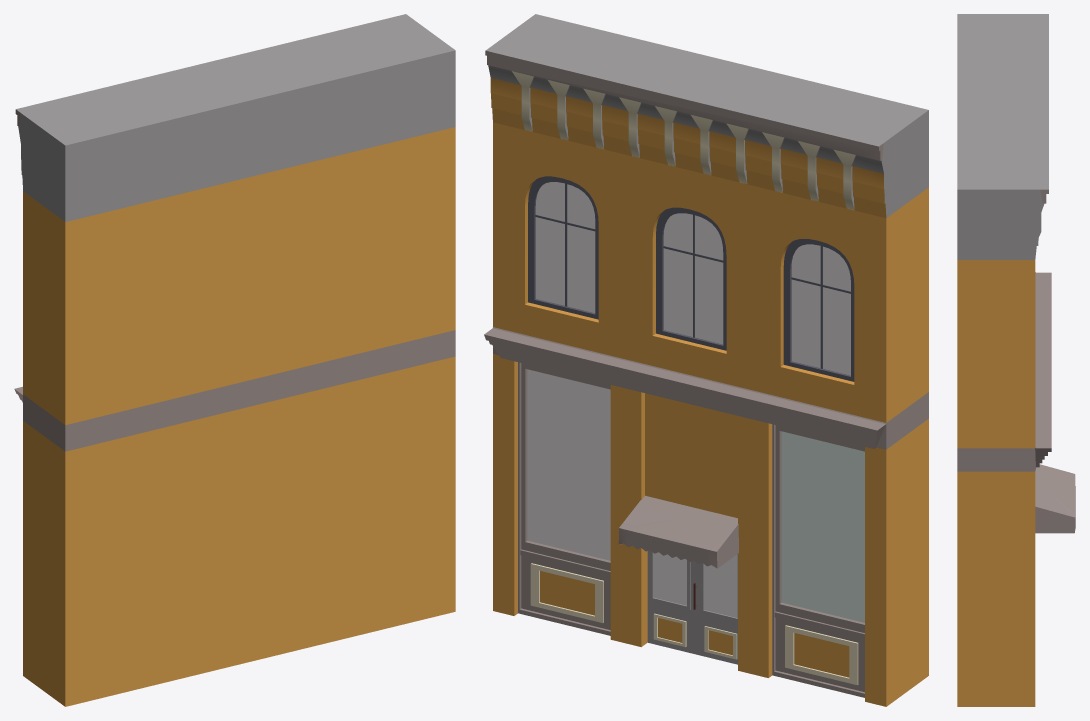
Rendered from KA_Facade_08.fbx.
3 views of the same model, side by side, from view 1: azimuth 30°, elevation 25°; view 2: azimuth 150°, elevation 25°; view 3: azimuth 270°, elevation 25° (orthographic). The views are drawn at different scales.
Visible parts, largest first — view 1: Facade 06; view 2: Facade 06; view 3: Facade 06.
Part boxes in pixels (x1,y1,x2,y2): Facade 06: [14, 14, 455, 706]; Facade 06: [484, 14, 928, 706]; Facade 06: [957, 14, 1075, 706].
Size of the model in its own units: 315 by 433 by 89.54.
